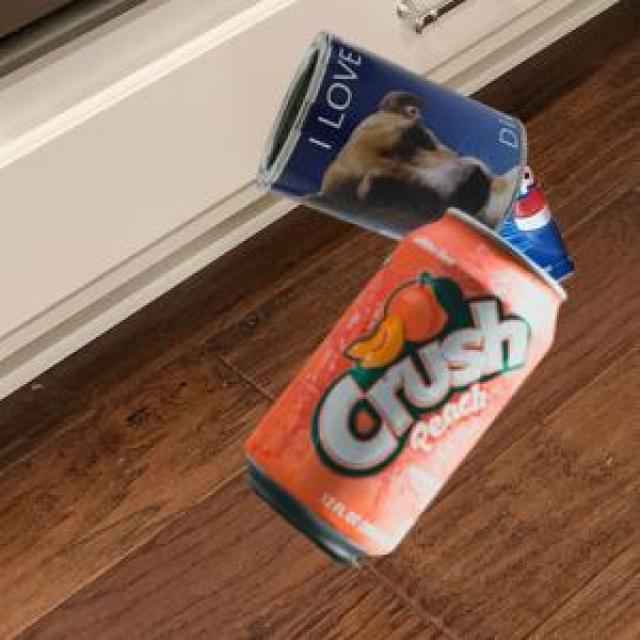Can: (242, 206, 564, 564), (255, 27, 524, 238), (494, 161, 571, 278)
